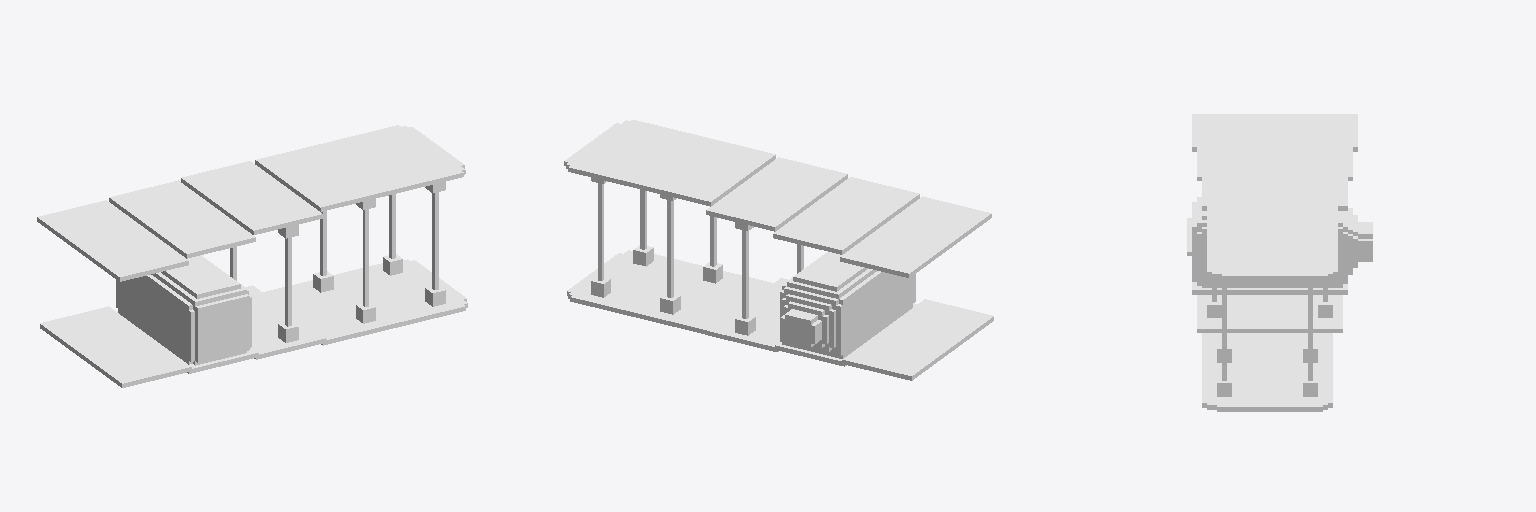
The model's file is Gotha-3.obj.
3 views of the same model, side by side, from view 1: azimuth 30°, elevation 25°; view 2: azimuth 150°, elevation 25°; view 3: azimuth 270°, elevation 25° (orthographic).
Visible parts, largest first — view 1: Gotha-3; view 2: Gotha-3; view 3: Gotha-3.
Boxes of the visible parts, x1,y1,x2,y2 form: Gotha-3: [37, 125, 467, 387]; Gotha-3: [564, 120, 993, 380]; Gotha-3: [1187, 114, 1372, 411].
Size of the model in its own units: 83 by 30 by 37.